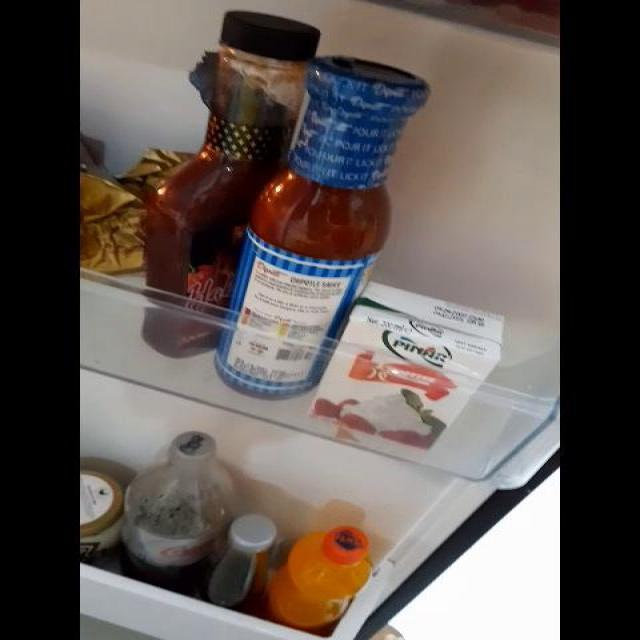cream: (325, 290, 496, 440)
sauce: (145, 7, 367, 384)
